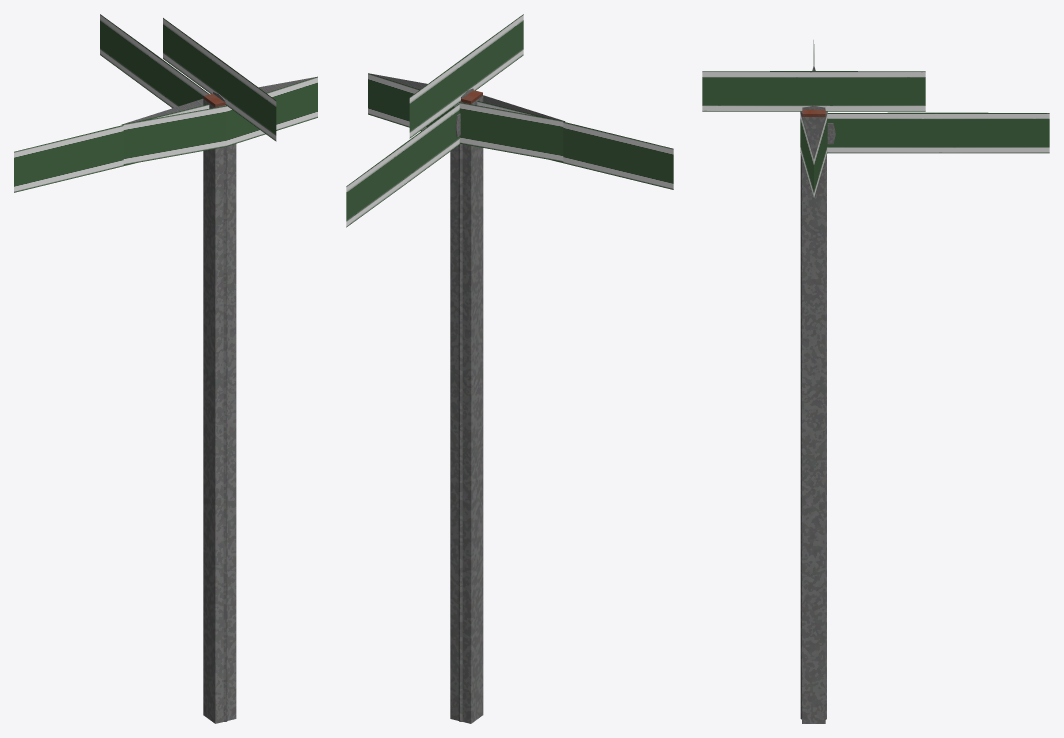
The model's file is streetSigns_mesh.fbx.
3 views of the same model, side by side, from view 1: azimuth 30°, elevation 25°; view 2: azimuth 150°, elevation 25°; view 3: azimuth 270°, elevation 25° (orthographic). The views are drawn at different scales.
Parts seen in each view (by area): view 1: metalStreetPost, streetSign03, streetSign01, streetSign02, roundStreetPost; view 2: metalStreetPost, streetSign03, streetSign01, streetSign02, roundStreetPost; view 3: metalStreetPost, streetSign03, streetSign02, roundStreetPost, streetSign01.
Boxes of the visible parts, x1,y1,x2,y2 form: metalStreetPost: [203, 99, 236, 723]; streetSign03: [14, 14, 209, 192]; streetSign01: [121, 76, 317, 164]; streetSign02: [163, 18, 276, 141]; roundStreetPost: [223, 105, 227, 721]; metalStreetPost: [450, 95, 483, 723]; streetSign03: [346, 101, 673, 227]; streetSign01: [368, 73, 565, 161]; streetSign02: [409, 14, 523, 138]; roundStreetPost: [458, 101, 462, 721]; metalStreetPost: [802, 117, 825, 723]; streetSign03: [813, 40, 1049, 153]; streetSign02: [702, 71, 925, 111]; roundStreetPost: [800, 111, 826, 719]; streetSign01: [800, 65, 827, 198].
Size of the model in its own units: 123 by 254 by 123.
